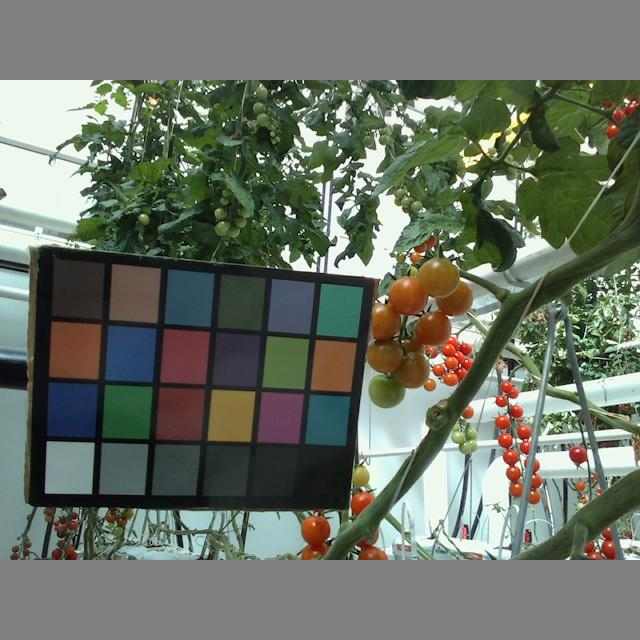green: (369, 372, 406, 407)
pink: (417, 256, 459, 299), (390, 347, 431, 388), (366, 333, 406, 375), (390, 274, 428, 315), (435, 277, 474, 316), (366, 300, 402, 340), (413, 311, 453, 347), (354, 466, 369, 489)
red: (298, 517, 330, 550), (348, 490, 378, 518), (301, 541, 332, 560), (361, 545, 389, 560)
